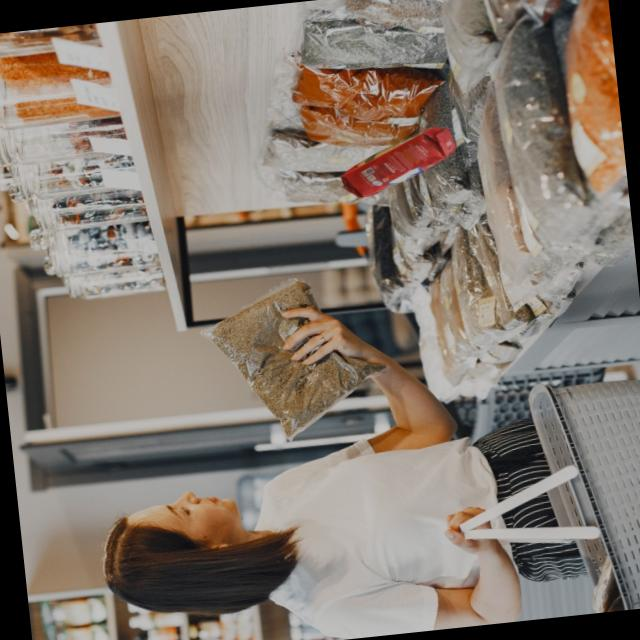mate bag: (322, 126, 452, 201)
